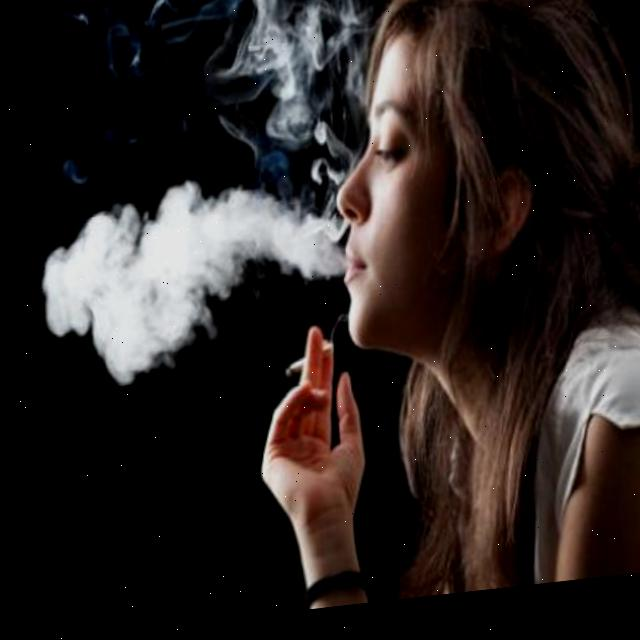cigarette: (277, 348, 331, 385)
